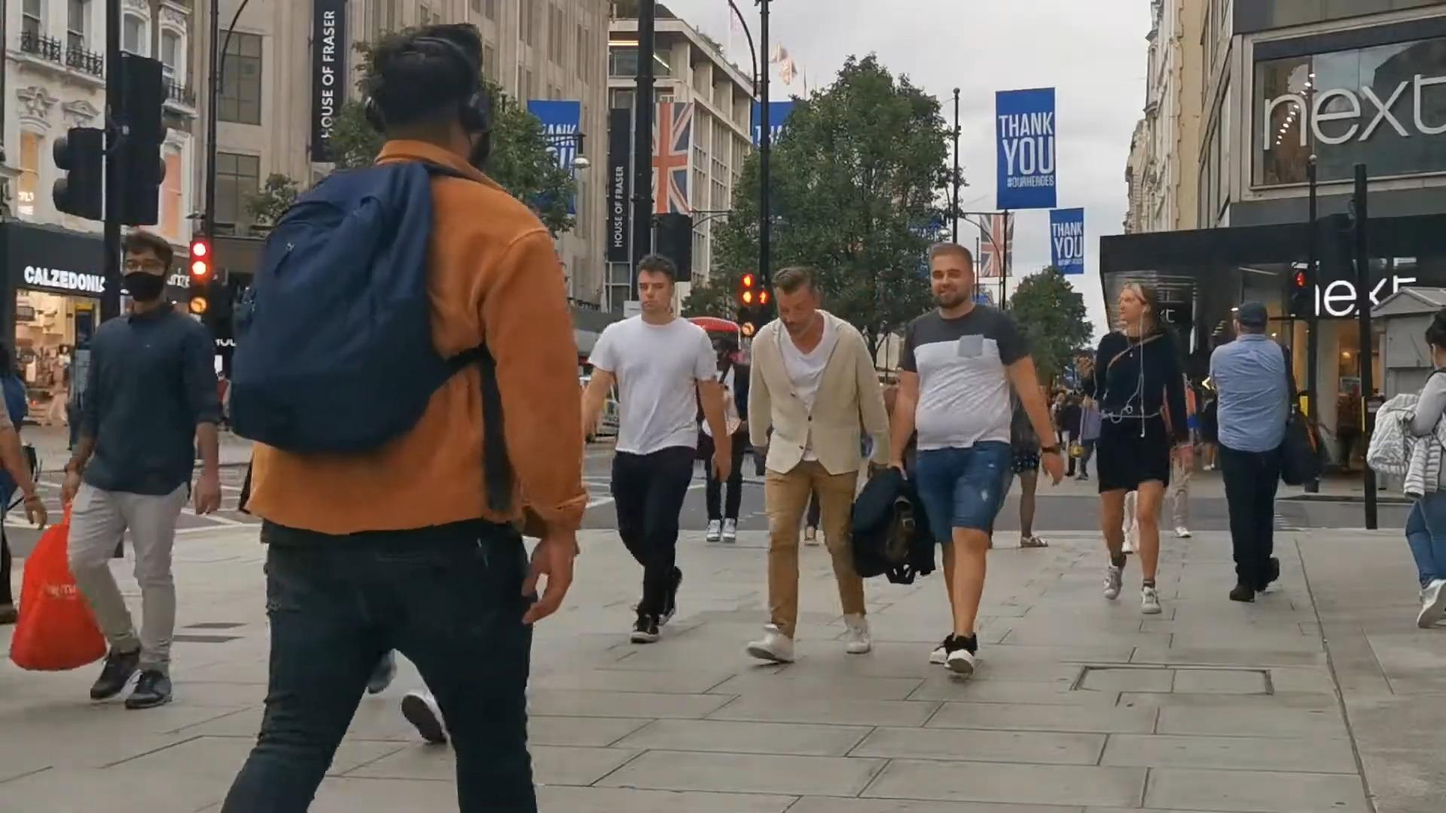no-helmet: (366, 23, 495, 172), (119, 230, 174, 302), (770, 266, 821, 338), (928, 243, 974, 308), (636, 254, 677, 314), (1118, 282, 1158, 325), (1425, 307, 1446, 370), (1233, 303, 1267, 335)
